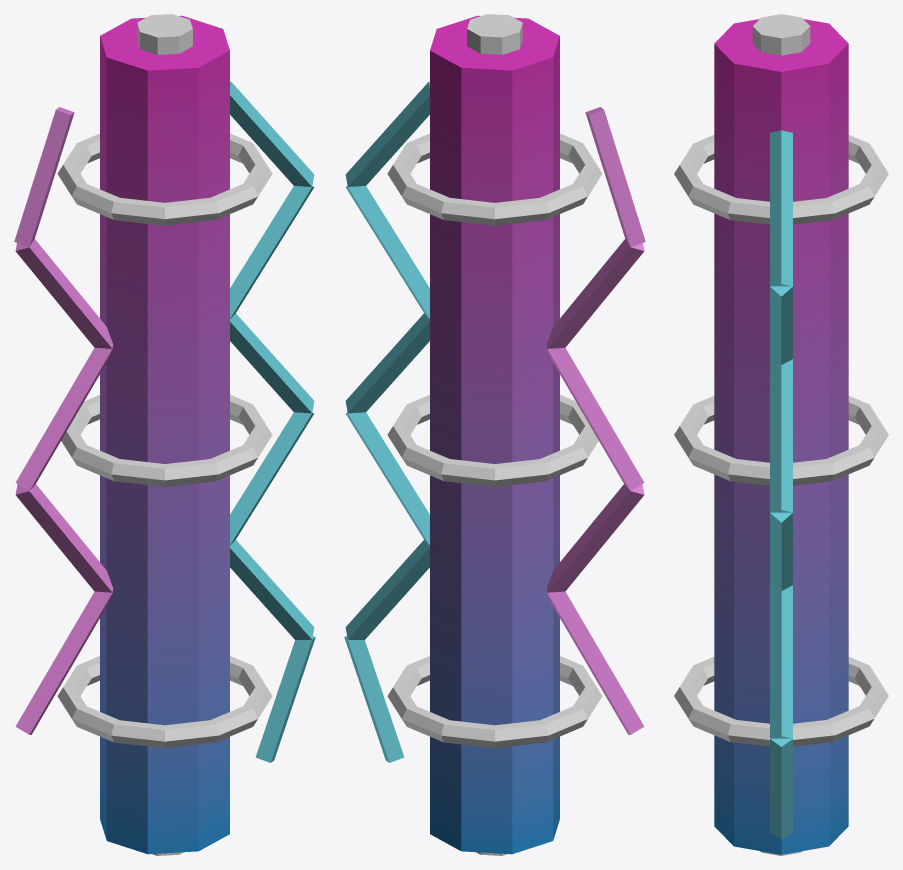
File: NeonStick.fbx
3 renders of one model, left to right at view 1: azimuth 30°, elevation 25°; view 2: azimuth 150°, elevation 25°; view 3: azimuth 270°, elevation 25°, orthographic.
Parts seen in each view (by area): view 1: NeonStick; view 2: NeonStick; view 3: NeonStick.
Boxes of the visible parts, x1,y1,x2,y2 form: NeonStick: (14, 14, 315, 855); NeonStick: (344, 14, 645, 855); NeonStick: (674, 14, 888, 855).
Bounding box in the file's own units: 0.3625 × 0.94 × 0.224.
